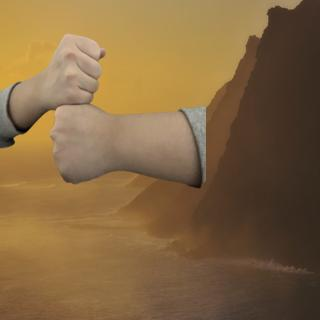CAREFUL: (9, 32, 201, 186)
